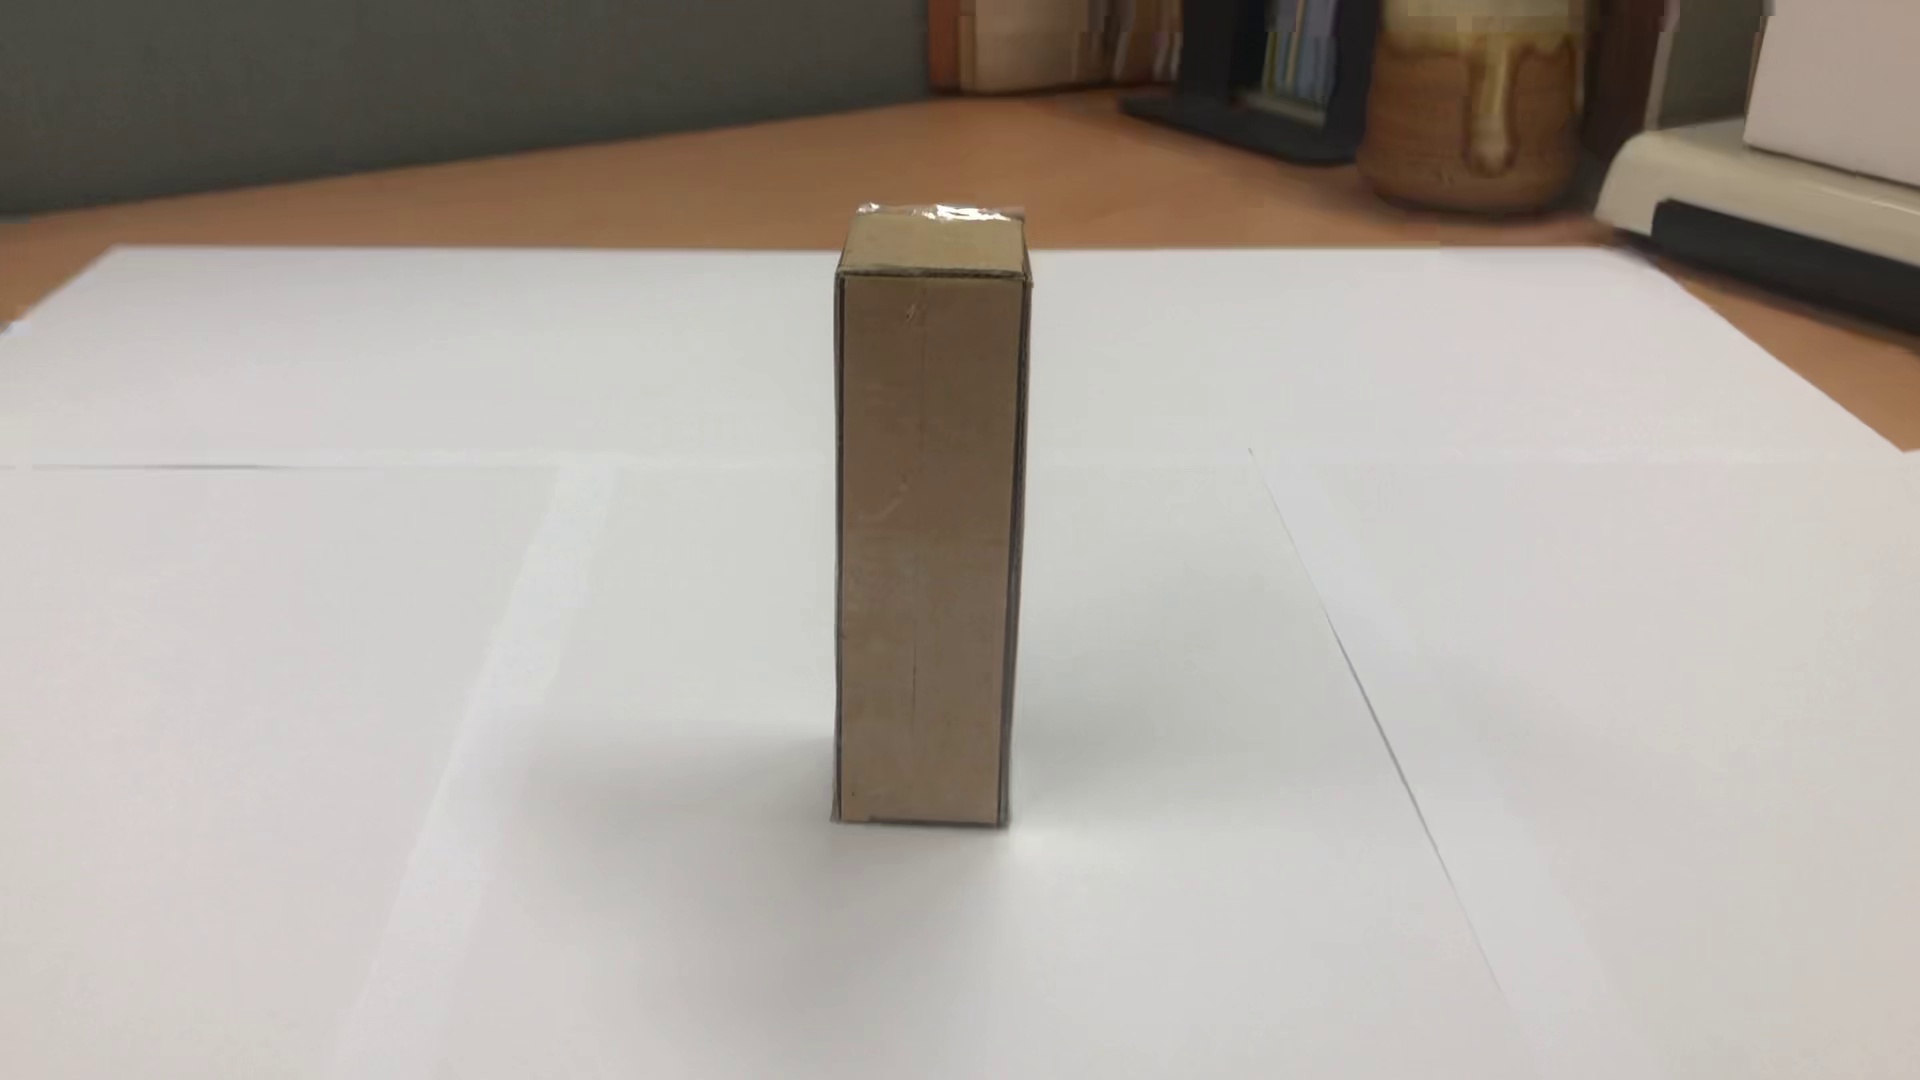box: (804, 177, 1043, 852)
